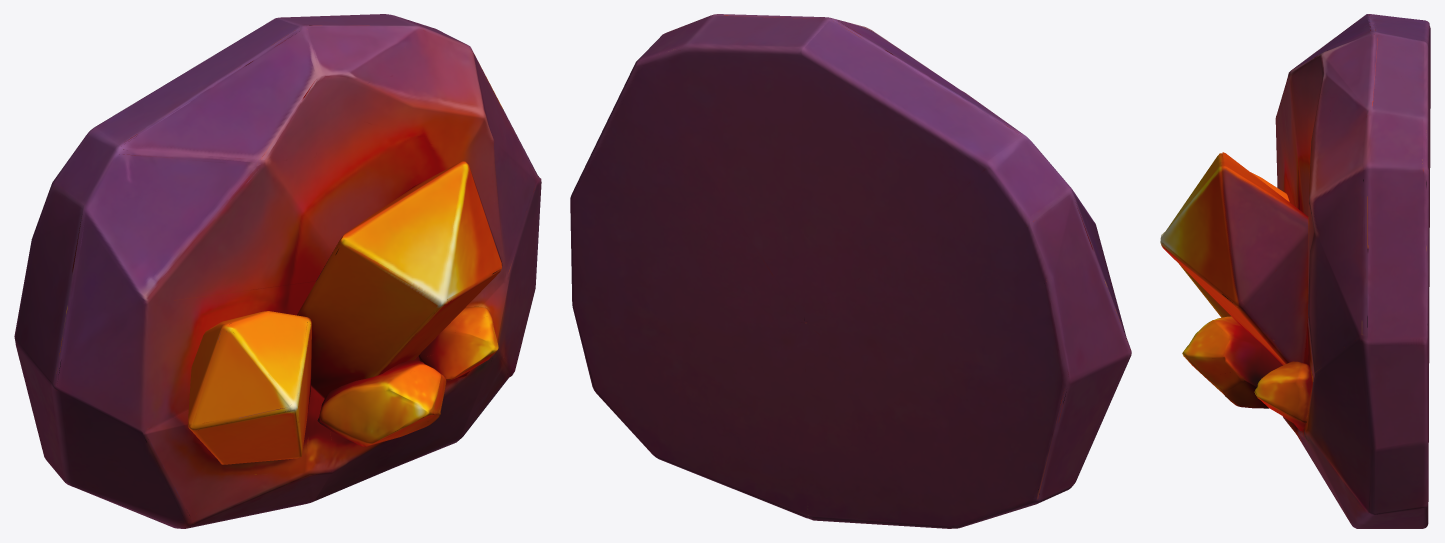
File: Copper_Ore.glb
The picture shows the model from 3 angles, left to right: view 1: azimuth 30°, elevation 25°; view 2: azimuth 150°, elevation 25°; view 3: azimuth 270°, elevation 25°; orthographic projection. The views are drawn at different scales.
Parts seen in each view (by area): view 1: geometry_0; view 2: geometry_0; view 3: geometry_0.
Boxes of the visible parts, x1=… form: geometry_0: x1=14, y1=14, x2=541, y2=528; geometry_0: x1=570, y1=14, x2=1131, y2=528; geometry_0: x1=1160, y1=14, x2=1430, y2=528.
Bounding box in the file's own units: 0.9575 × 0.8486 × 0.459.
1 material, 1 textured.
